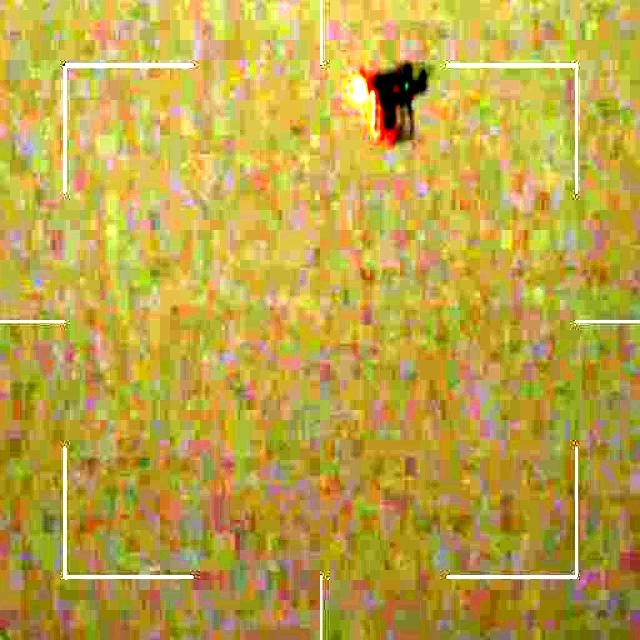bird: (339, 54, 434, 155)
